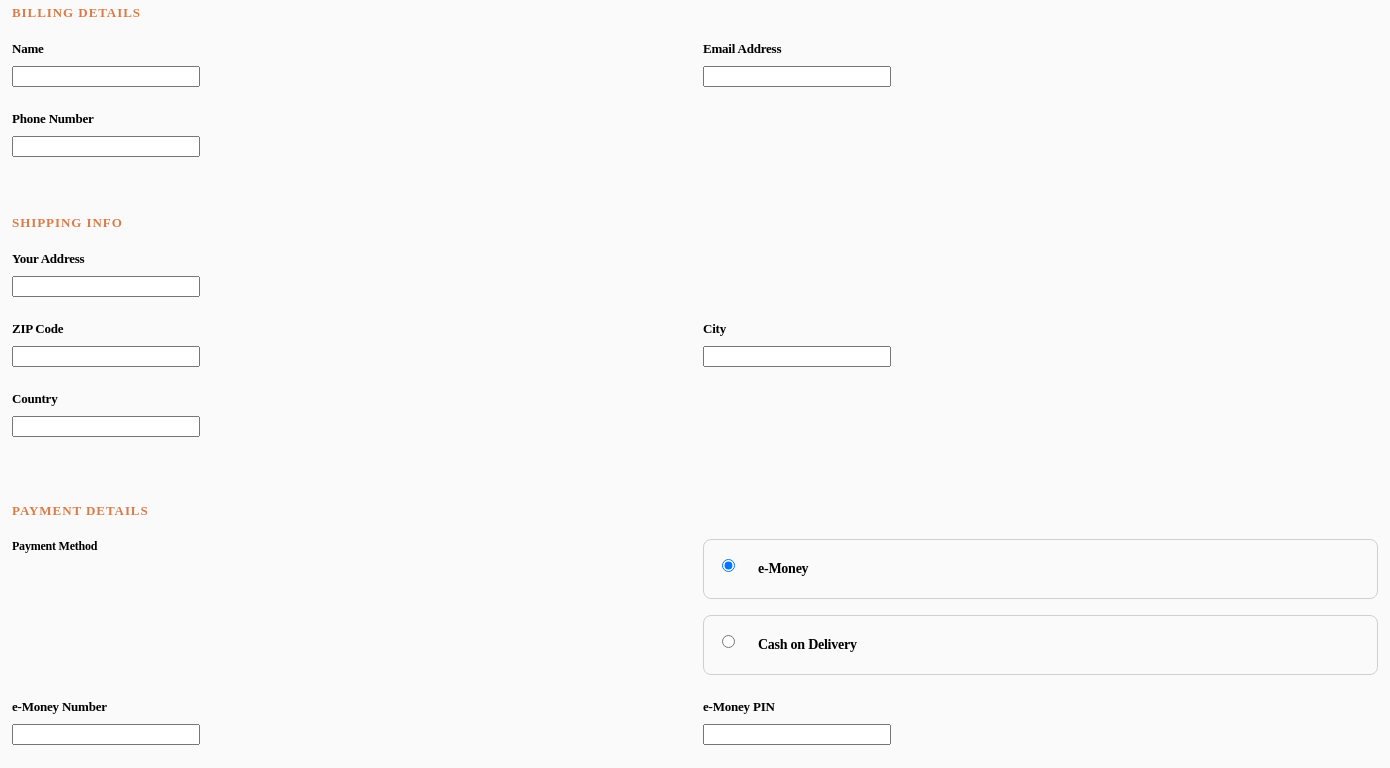
BillingDetails › Interactions › Form validation › displays a required error message in Email Address field when it was touched and then blurred leaving it with an empty value
Click the field labelled "Email Address": (797, 76) [703, 66, 891, 87]
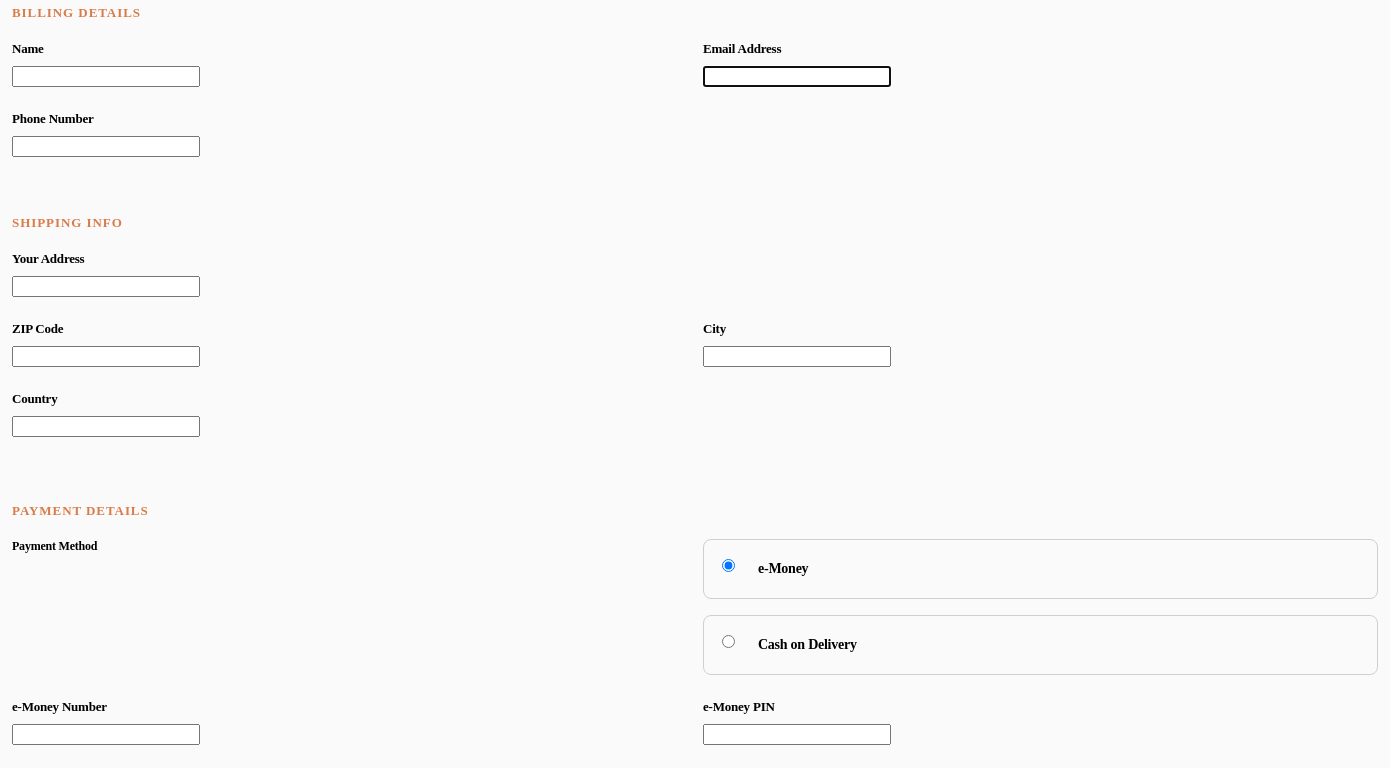
Click the element that starts with "Billing Details": (695, 384) [12, 0, 1378, 767]
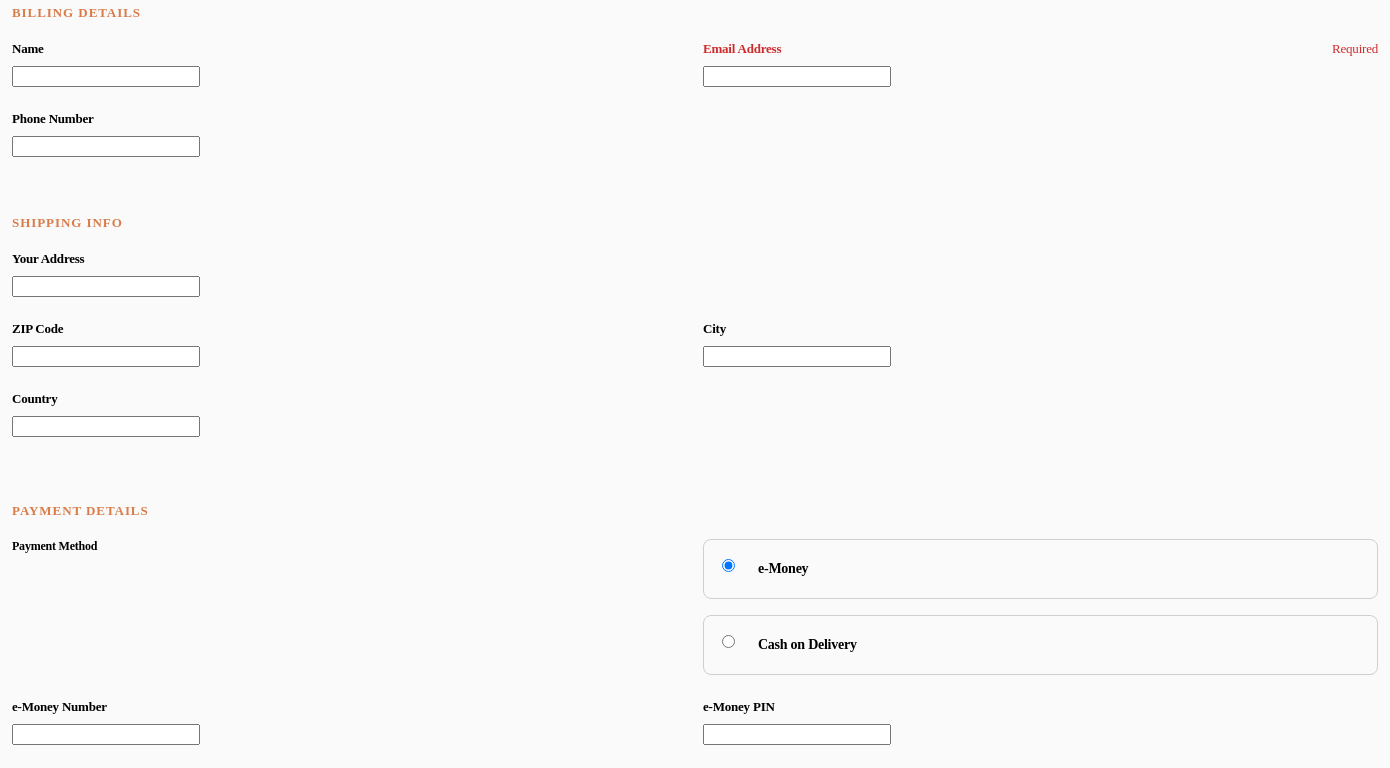
Check: the text "Required" is shown, box [1332, 41, 1378, 57]
